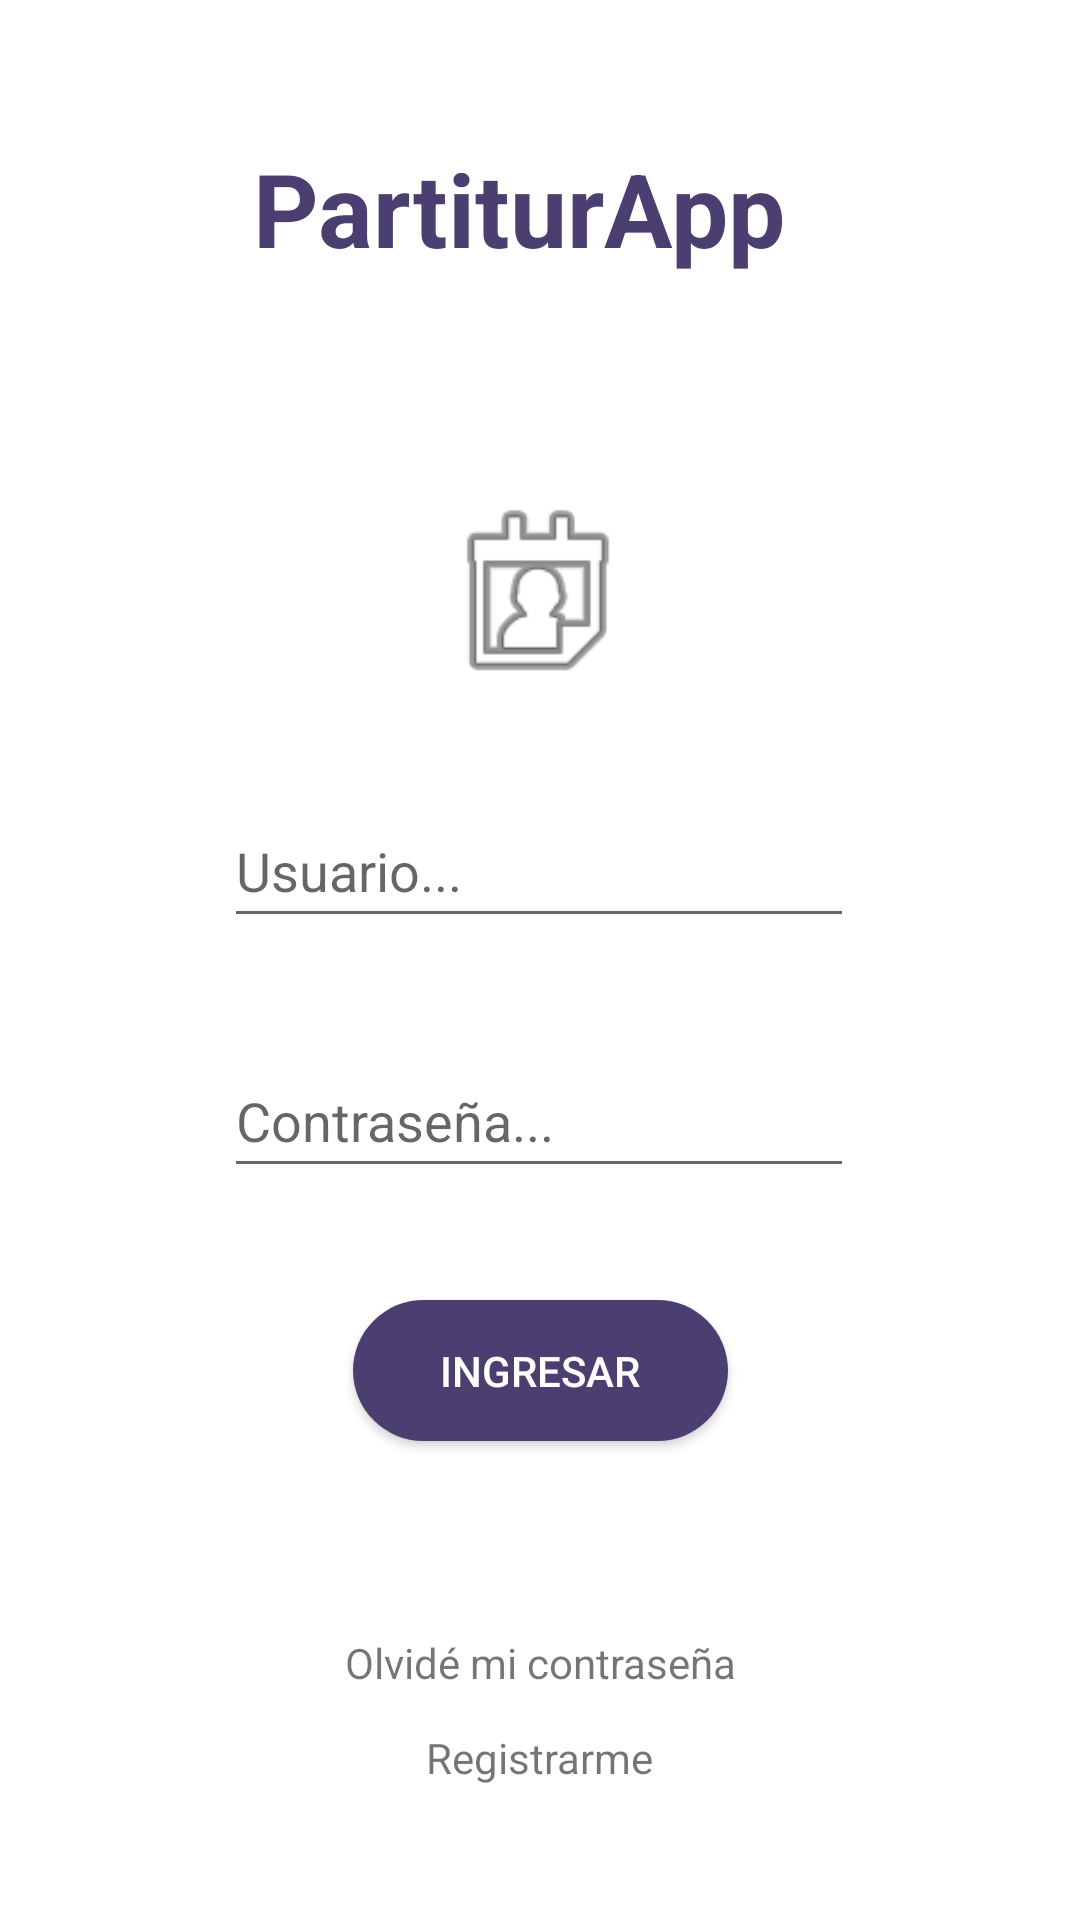

Locate icon controls on the screen. Image size 1080×1920, boxes as {"x1": x1, "y1": y1, "x2": x2, "y2": y2}.
calendar: {"x1": 467, "y1": 510, "x2": 609, "y2": 671}
